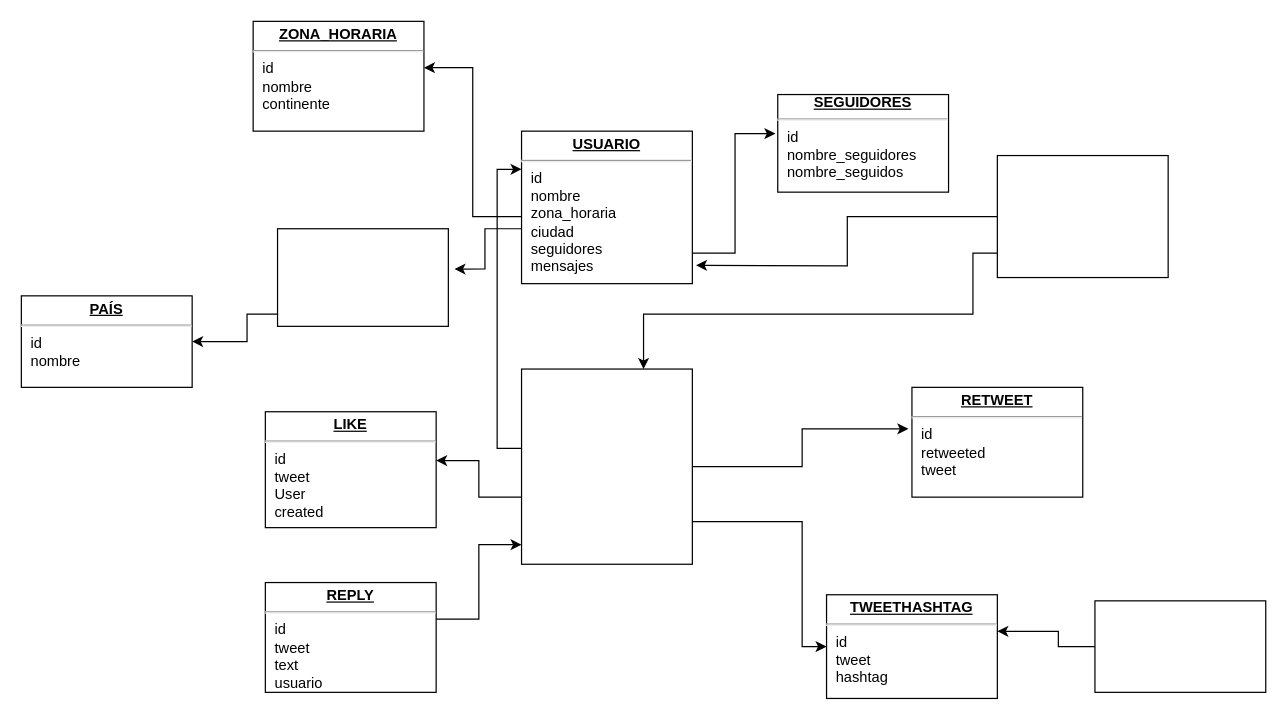
Some shapes in this 1287 by 723 pixel diagram are drawn without their labels. Here are the shapes that lost their labels. From the top down, the centre of each, then its label:
At (x=1082, y=216): "MENSAJE id texto usuario_envió tweet".
At (x=362, y=277): "CIUDAD id nombre país".
At (x=606, y=466): "TWEET id texto usuario retweet creado like hasthag reply".
At (x=1180, y=646): "HASHTAG id text".
